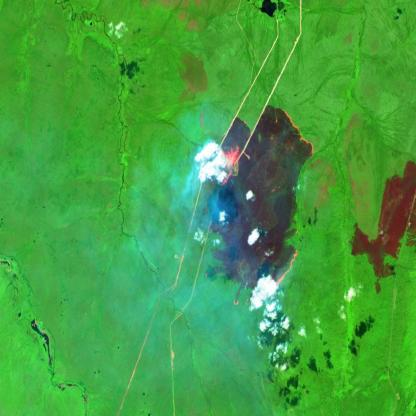fire: (196, 97, 316, 312)
